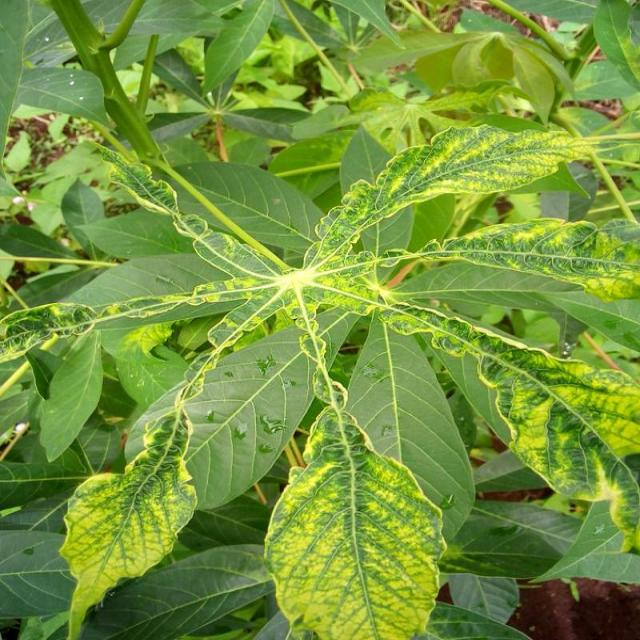cassava leaf: (2, 115, 640, 637), (263, 404, 448, 638)
